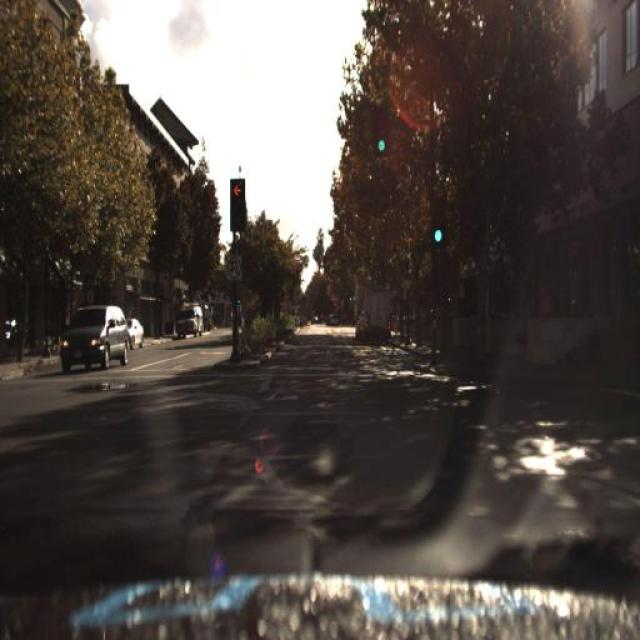car: (61, 298, 128, 361), (358, 276, 394, 346), (168, 296, 196, 335), (126, 314, 142, 350)
trafficLight-Green: (376, 101, 390, 158)
trafficLight-GreenLeft: (434, 202, 444, 246)
trafficLight-Yellow: (230, 173, 242, 225)
